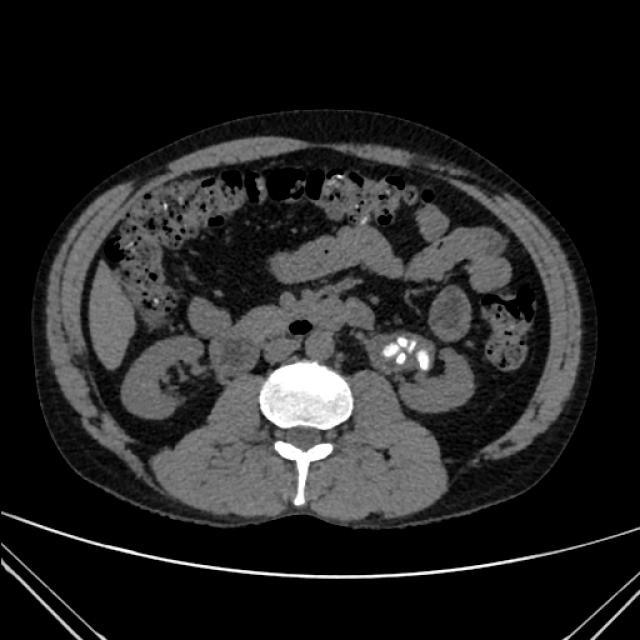kidneystone: (381, 336, 409, 358), (418, 349, 432, 371), (406, 334, 424, 351)
